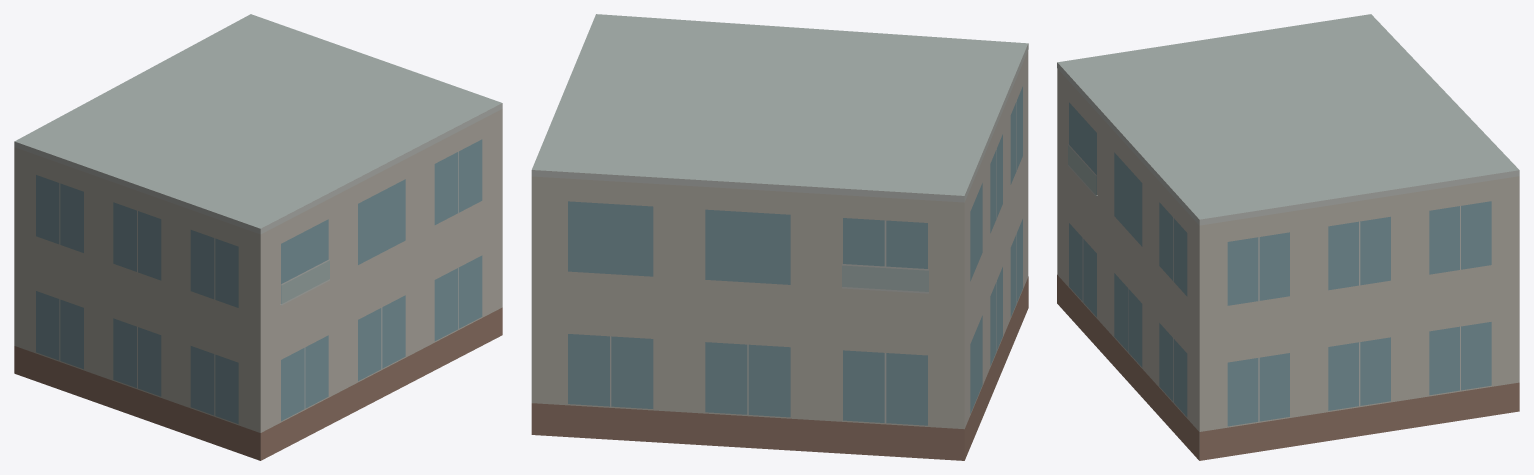
File: survey-upis-32850664.glb
3 renders of one model, left to right at view 1: azimuth 30°, elevation 25°; view 2: azimuth 150°, elevation 25°; view 3: azimuth 270°, elevation 25°, orthographic. The views are drawn at different scales.
Visible parts, largest first — view 1: survey-upis-32850664.tmp; view 2: survey-upis-32850664.tmp; view 3: survey-upis-32850664.tmp.
Part boxes in pixels (<box>): survey-upis-32850664.tmp: <box>14,14,502,460</box>; survey-upis-32850664.tmp: <box>531,14,1028,460</box>; survey-upis-32850664.tmp: <box>1057,14,1519,460</box>.
Bounding box in the file's own units: 18.02 × 9.85 × 17.12.
